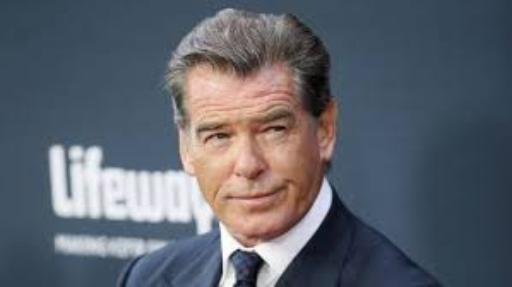left_eye: (259, 124, 294, 138)
left_lip_corner: (276, 186, 293, 198)
right_eye: (199, 131, 236, 145)
right_lip_corner: (220, 193, 238, 205)
